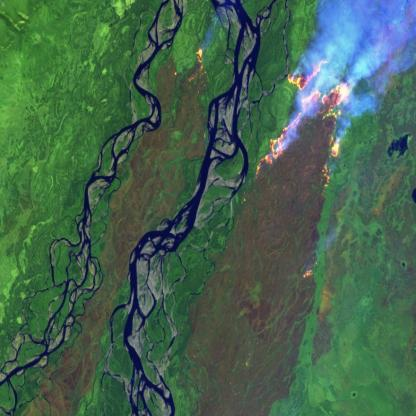fire: (247, 53, 356, 188), (177, 41, 211, 94), (299, 260, 316, 286)
